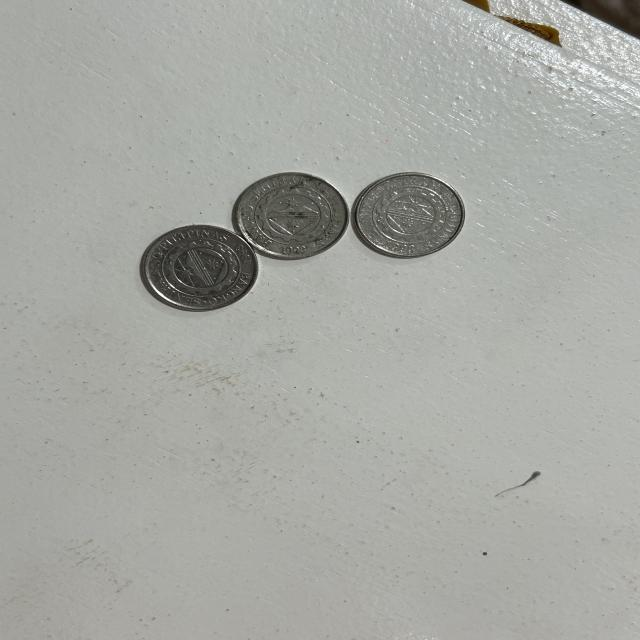1_Old_Back: (250, 185, 328, 250), (368, 184, 448, 247), (159, 238, 240, 298)
